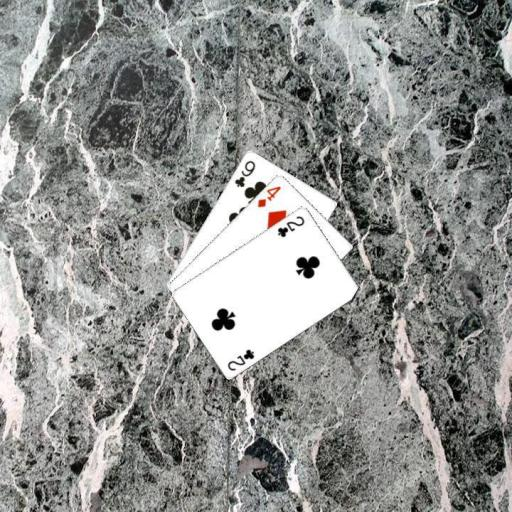card-corner: (231, 157, 257, 189), (274, 213, 306, 239), (224, 346, 256, 372), (255, 183, 282, 208)
